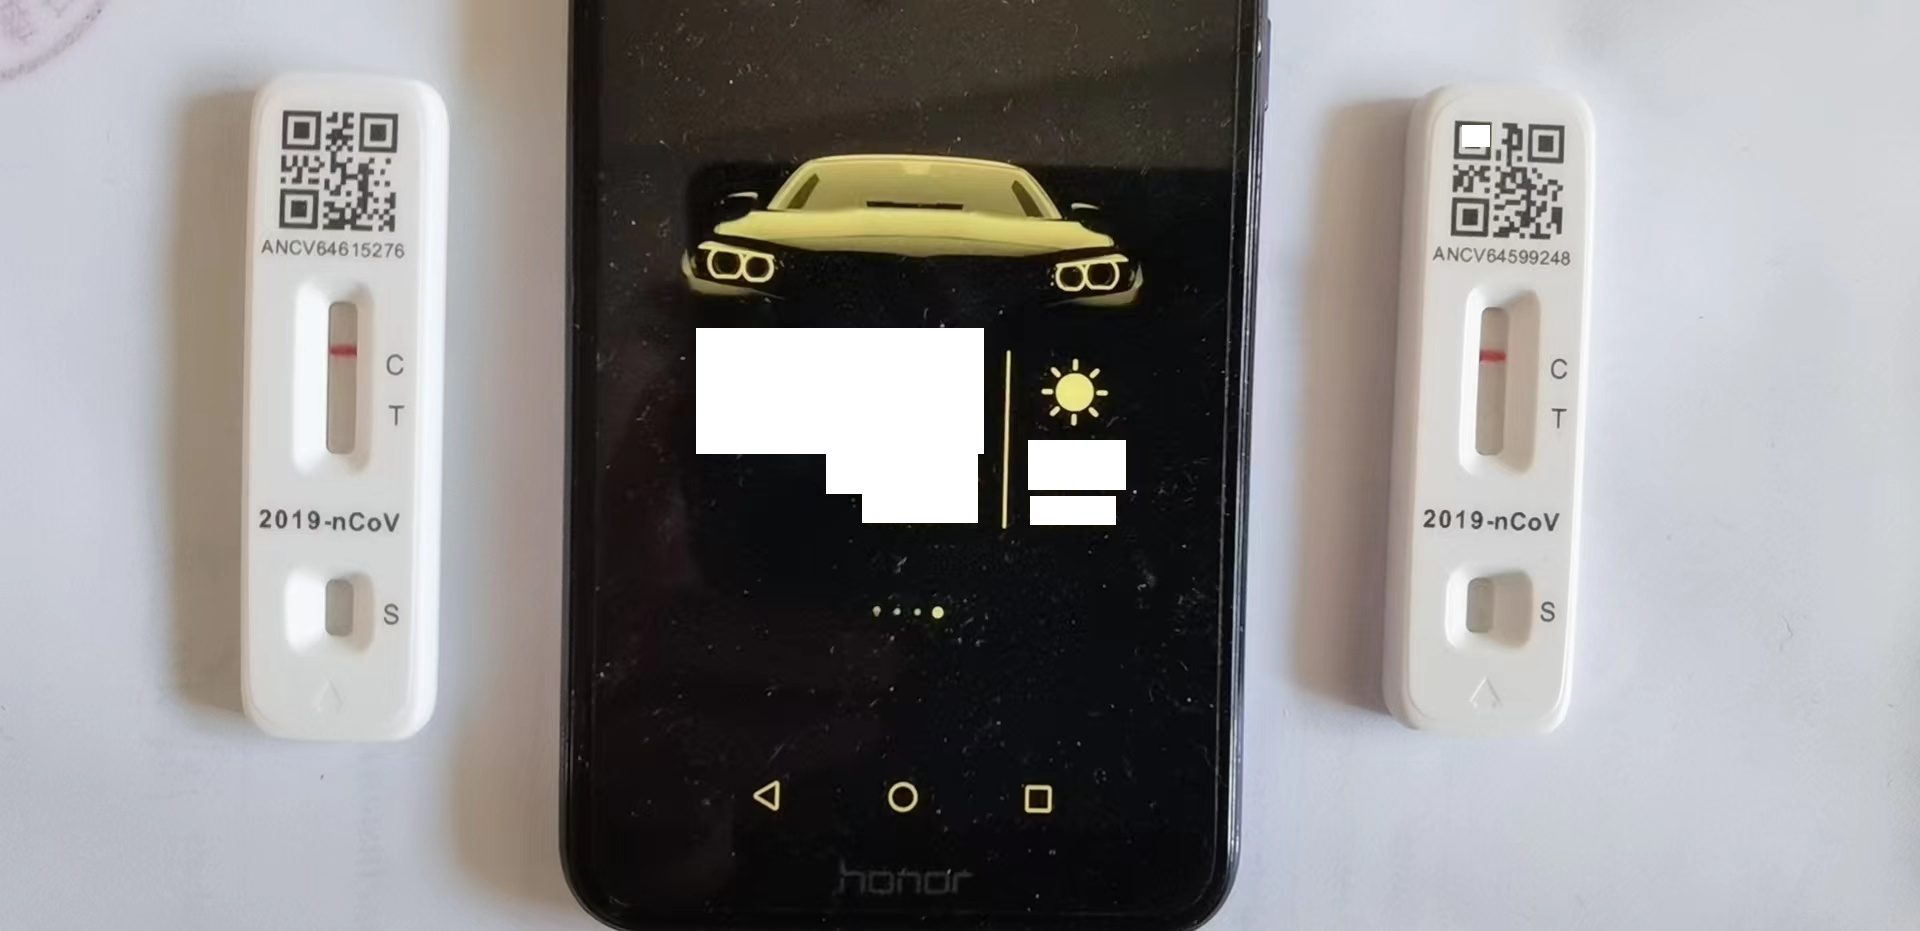negative: (1464, 289, 1539, 470), (309, 289, 373, 467)
